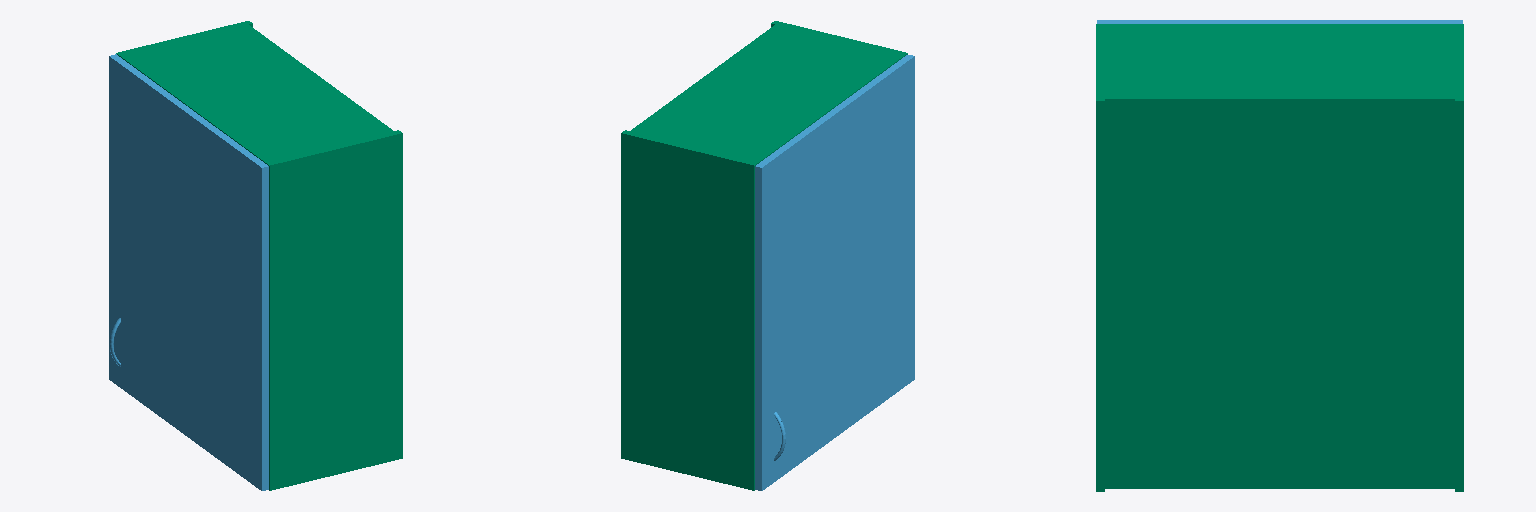
URDF robot description (partnet_8ddd7f1e19ff809abe81a9109a782712):
<?xml version='1.0' encoding='utf-8'?>
<robot name="partnet_8ddd7f1e19ff809abe81a9109a782712">
	<link name="base" />
	<link name="link_0">
		<visual name="cabinet_door_surface-4">
			<origin xyz="-0.6150654759161468 -0.7430800199508666 -0.30996262874794717" />
			<geometry>
				<mesh filename="textured_objs/original-7.obj" />
			</geometry>
		</visual>
		<visual name="handle-5">
			<origin xyz="-0.6150654759161468 -0.7430800199508666 -0.30996262874794717" />
			<geometry>
				<mesh filename="textured_objs/original-9.obj" />
			</geometry>
		</visual>
		<visual name="handle-5">
			<origin xyz="-0.6150654759161468 -0.7430800199508666 -0.30996262874794717" />
			<geometry>
				<mesh filename="textured_objs/original-10.obj" />
			</geometry>
		</visual>
		<collision>
			<origin xyz="-0.6150654759161468 -0.7430800199508666 -0.30996262874794717" />
			<geometry>
				<mesh filename="textured_objs/original-7.obj" />
			</geometry>
		</collision>
		<collision>
			<origin xyz="-0.6150654759161468 -0.7430800199508666 -0.30996262874794717" />
			<geometry>
				<mesh filename="textured_objs/original-9.obj" />
			</geometry>
		</collision>
		<collision>
			<origin xyz="-0.6150654759161468 -0.7430800199508666 -0.30996262874794717" />
			<geometry>
				<mesh filename="textured_objs/original-10.obj" />
			</geometry>
		</collision>
	</link>
	<joint name="joint_0" type="revolute">
		<origin xyz="0.6150654759161468 0.7430800199508666 0.30996262874794717" />
		<axis xyz="0 1 0" />
		<child link="link_0" />
		<parent link="link_1" />
		<limit lower="0.0" upper="2.1991148575128547" />
	</joint>
	<link name="link_1">
		<visual name="shelf-15">
			<origin xyz="0 0 0" />
			<geometry>
				<mesh filename="textured_objs/original-20.obj" />
			</geometry>
		</visual>
		<visual name="shelf-16">
			<origin xyz="0 0 0" />
			<geometry>
				<mesh filename="textured_objs/original-89.obj" />
			</geometry>
		</visual>
		<visual name="vertical_side_panel-6">
			<origin xyz="0 0 0" />
			<geometry>
				<mesh filename="textured_objs/original-2.obj" />
			</geometry>
		</visual>
		<visual name="vertical_side_panel-7">
			<origin xyz="0 0 0" />
			<geometry>
				<mesh filename="textured_objs/original-3.obj" />
			</geometry>
		</visual>
		<visual name="back_panel-8">
			<origin xyz="0 0 0" />
			<geometry>
				<mesh filename="textured_objs/original-12.obj" />
			</geometry>
		</visual>
		<visual name="bottom_panel-9">
			<origin xyz="0 0 0" />
			<geometry>
				<mesh filename="textured_objs/original-1.obj" />
			</geometry>
		</visual>
		<visual name="top_panel-10">
			<origin xyz="0 0 0" />
			<geometry>
				<mesh filename="textured_objs/original-5.obj" />
			</geometry>
		</visual>
		<visual name="other_leaf-14">
			<origin xyz="0 0 0" />
			<geometry>
				<mesh filename="textured_objs/original-27.obj" />
			</geometry>
		</visual>
		<visual name="other_leaf-14">
			<origin xyz="0 0 0" />
			<geometry>
				<mesh filename="textured_objs/original-46.obj" />
			</geometry>
		</visual>
		<visual name="other_leaf-14">
			<origin xyz="0 0 0" />
			<geometry>
				<mesh filename="textured_objs/original-49.obj" />
			</geometry>
		</visual>
		<visual name="other_leaf-14">
			<origin xyz="0 0 0" />
			<geometry>
				<mesh filename="textured_objs/original-29.obj" />
			</geometry>
		</visual>
		<visual name="other_leaf-14">
			<origin xyz="0 0 0" />
			<geometry>
				<mesh filename="textured_objs/original-36.obj" />
			</geometry>
		</visual>
		<visual name="other_leaf-14">
			<origin xyz="0 0 0" />
			<geometry>
				<mesh filename="textured_objs/original-43.obj" />
			</geometry>
		</visual>
		<visual name="other_leaf-14">
			<origin xyz="0 0 0" />
			<geometry>
				<mesh filename="textured_objs/original-37.obj" />
			</geometry>
		</visual>
		<visual name="other_leaf-14">
			<origin xyz="0 0 0" />
			<geometry>
				<mesh filename="textured_objs/original-41.obj" />
			</geometry>
		</visual>
		<visual name="other_leaf-14">
			<origin xyz="0 0 0" />
			<geometry>
				<mesh filename="textured_objs/original-48.obj" />
			</geometry>
		</visual>
		<visual name="other_leaf-14">
			<origin xyz="0 0 0" />
			<geometry>
				<mesh filename="textured_objs/original-47.obj" />
			</geometry>
		</visual>
		<visual name="other_leaf-14">
			<origin xyz="0 0 0" />
			<geometry>
				<mesh filename="textured_objs/original-50.obj" />
			</geometry>
		</visual>
		<visual name="other_leaf-14">
			<origin xyz="0 0 0" />
			<geometry>
				<mesh filename="textured_objs/original-35.obj" />
			</geometry>
		</visual>
		<visual name="other_leaf-14">
			<origin xyz="0 0 0" />
			<geometry>
				<mesh filename="textured_objs/original-33.obj" />
			</geometry>
		</visual>
		<visual name="other_leaf-14">
			<origin xyz="0 0 0" />
			<geometry>
				<mesh filename="textured_objs/original-44.obj" />
			</geometry>
		</visual>
		<visual name="other_leaf-14">
			<origin xyz="0 0 0" />
			<geometry>
				<mesh filename="textured_objs/original-42.obj" />
			</geometry>
		</visual>
		<visual name="other_leaf-14">
			<origin xyz="0 0 0" />
			<geometry>
				<mesh filename="textured_objs/original-38.obj" />
			</geometry>
		</visual>
		<visual name="other_leaf-14">
			<origin xyz="0 0 0" />
			<geometry>
				<mesh filename="textured_objs/original-45.obj" />
			</geometry>
		</visual>
		<visual name="other_leaf-14">
			<origin xyz="0 0 0" />
			<geometry>
				<mesh filename="textured_objs/original-40.obj" />
			</geometry>
		</visual>
		<visual name="other_leaf-14">
			<origin xyz="0 0 0" />
			<geometry>
				<mesh filename="textured_objs/original-51.obj" />
			</geometry>
		</visual>
		<visual name="other_leaf-14">
			<origin xyz="0 0 0" />
			<geometry>
				<mesh filename="textured_objs/original-23.obj" />
			</geometry>
		</visual>
		<visual name="other_leaf-14">
			<origin xyz="0 0 0" />
			<geometry>
				<mesh filename="textured_objs/original-24.obj" />
			</geometry>
		</visual>
		<visual name="other_leaf-14">
			<origin xyz="0 0 0" />
			<geometry>
				<mesh filename="textured_objs/original-34.obj" />
			</geometry>
		</visual>
		<visual name="other_leaf-14">
			<origin xyz="0 0 0" />
			<geometry>
				<mesh filename="textured_objs/original-39.obj" />
			</geometry>
		</visual>
		<visual name="other_leaf-14">
			<origin xyz="0 0 0" />
			<geometry>
				<mesh filename="textured_objs/original-22.obj" />
			</geometry>
		</visual>
		<visual name="other_leaf-14">
			<origin xyz="0 0 0" />
			<geometry>
				<mesh filename="textured_objs/original-25.obj" />
			</geometry>
		</visual>
		<visual name="other_leaf-14">
			<origin xyz="0 0 0" />
			<geometry>
				<mesh filename="textured_objs/original-30.obj" />
			</geometry>
		</visual>
		<visual name="other_leaf-14">
			<origin xyz="0 0 0" />
			<geometry>
				<mesh filename="textured_objs/original-32.obj" />
			</geometry>
		</visual>
		<visual name="other_leaf-14">
			<origin xyz="0 0 0" />
			<geometry>
				<mesh filename="textured_objs/original-28.obj" />
			</geometry>
		</visual>
		<visual name="other_leaf-14">
			<origin xyz="0 0 0" />
			<geometry>
				<mesh filename="textured_objs/original-31.obj" />
			</geometry>
		</visual>
		<visual name="other_leaf-13">
			<origin xyz="0 0 0" />
			<geometry>
				<mesh filename="textured_objs/original-55.obj" />
			</geometry>
		</visual>
		<visual name="other_leaf-13">
			<origin xyz="0 0 0" />
			<geometry>
				<mesh filename="textured_objs/original-68.obj" />
			</geometry>
		</visual>
		<visual name="other_leaf-13">
			<origin xyz="0 0 0" />
			<geometry>
				<mesh filename="textured_objs/original-79.obj" />
			</geometry>
		</visual>
		<visual name="other_leaf-13">
			<origin xyz="0 0 0" />
			<geometry>
				<mesh filename="textured_objs/original-67.obj" />
			</geometry>
		</visual>
		<visual name="other_leaf-13">
			<origin xyz="0 0 0" />
			<geometry>
				<mesh filename="textured_objs/original-66.obj" />
			</geometry>
		</visual>
		<visual name="other_leaf-13">
			<origin xyz="0 0 0" />
			<geometry>
				<mesh filename="textured_objs/original-65.obj" />
			</geometry>
		</visual>
		<visual name="other_leaf-13">
			<origin xyz="0 0 0" />
			<geometry>
				<mesh filename="textured_objs/original-64.obj" />
			</geometry>
		</visual>
		<visual name="other_leaf-13">
			<origin xyz="0 0 0" />
			<geometry>
				<mesh filename="textured_objs/original-63.obj" />
			</geometry>
		</visual>
		<visual name="other_leaf-13">
			<origin xyz="0 0 0" />
			<geometry>
				<mesh filename="textured_objs/original-78.obj" />
			</geometry>
		</visual>
		<visual name="other_leaf-13">
			<origin xyz="0 0 0" />
			<geometry>
				<mesh filename="textured_objs/original-77.obj" />
			</geometry>
		</visual>
		<visual name="other_leaf-13">
			<origin xyz="0 0 0" />
			<geometry>
				<mesh filename="textured_objs/original-76.obj" />
			</geometry>
		</visual>
		<visual name="other_leaf-13">
			<origin xyz="0 0 0" />
			<geometry>
				<mesh filename="textured_objs/original-75.obj" />
			</geometry>
		</visual>
		<visual name="other_leaf-13">
			<origin xyz="0 0 0" />
			<geometry>
				<mesh filename="textured_objs/original-74.obj" />
			</geometry>
		</visual>
		<visual name="other_leaf-13">
			<origin xyz="0 0 0" />
			<geometry>
				<mesh filename="textured_objs/original-62.obj" />
			</geometry>
		</visual>
		<visual name="other_leaf-13">
			<origin xyz="0 0 0" />
			<geometry>
				<mesh filename="textured_objs/original-73.obj" />
			</geometry>
		</visual>
		<visual name="other_leaf-13">
			<origin xyz="0 0 0" />
			<geometry>
				<mesh filename="textured_objs/original-61.obj" />
			</geometry>
		</visual>
		<visual name="other_leaf-13">
			<origin xyz="0 0 0" />
			<geometry>
				<mesh filename="textured_objs/original-60.obj" />
			</geometry>
		</visual>
		<visual name="other_leaf-13">
			<origin xyz="0 0 0" />
			<geometry>
				<mesh filename="textured_objs/original-59.obj" />
			</geometry>
		</visual>
		<visual name="other_leaf-13">
			<origin xyz="0 0 0" />
			<geometry>
				<mesh filename="textured_objs/original-58.obj" />
			</geometry>
		</visual>
		<visual name="other_leaf-13">
			<origin xyz="0 0 0" />
			<geometry>
				<mesh filename="textured_objs/original-72.obj" />
			</geometry>
		</visual>
		<visual name="other_leaf-13">
			<origin xyz="0 0 0" />
			<geometry>
				<mesh filename="textured_objs/original-71.obj" />
			</geometry>
		</visual>
		<visual name="other_leaf-13">
			<origin xyz="0 0 0" />
			<geometry>
				<mesh filename="textured_objs/original-70.obj" />
			</geometry>
		</visual>
		<visual name="other_leaf-13">
			<origin xyz="0 0 0" />
			<geometry>
				<mesh filename="textured_objs/original-69.obj" />
			</geometry>
		</visual>
		<visual name="other_leaf-13">
			<origin xyz="0 0 0" />
			<geometry>
				<mesh filename="textured_objs/original-57.obj" />
			</geometry>
		</visual>
		<visual name="other_leaf-13">
			<origin xyz="0 0 0" />
			<geometry>
				<mesh filename="textured_objs/original-56.obj" />
			</geometry>
		</visual>
		<visual name="other_leaf-13">
			<origin xyz="0 0 0" />
			<geometry>
				<mesh filename="textured_objs/original-81.obj" />
			</geometry>
		</visual>
		<visual name="other_leaf-13">
			<origin xyz="0 0 0" />
			<geometry>
				<mesh filename="textured_objs/original-80.obj" />
			</geometry>
		</visual>
		<visual name="other_leaf-13">
			<origin xyz="0 0 0" />
			<geometry>
				<mesh filename="textured_objs/original-85.obj" />
			</geometry>
		</visual>
		<visual name="frame_horizontal_bar-17">
			<origin xyz="0 0 0" />
			<geometry>
				<mesh filename="textured_objs/original-83.obj" />
			</geometry>
		</visual>
		<visual name="frame_horizontal_bar-17">
			<origin xyz="0 0 0" />
			<geometry>
				<mesh filename="textured_objs/original-84.obj" />
			</geometry>
		</visual>
		<visual name="frame_horizontal_bar-18">
			<origin xyz="0 0 0" />
			<geometry>
				<mesh filename="textured_objs/original-87.obj" />
			</geometry>
		</visual>
		<visual name="frame_horizontal_bar-18">
			<origin xyz="0 0 0" />
			<geometry>
				<mesh filename="textured_objs/original-88.obj" />
			</geometry>
		</visual>
		<visual name="frame_horizontal_bar-19">
			<origin xyz="0 0 0" />
			<geometry>
				<mesh filename="textured_objs/original-19.obj" />
			</geometry>
		</visual>
		<visual name="frame_horizontal_bar-20">
			<origin xyz="0 0 0" />
			<geometry>
				<mesh filename="textured_objs/original-18.obj" />
			</geometry>
		</visual>
		<visual name="frame_horizontal_bar-21">
			<origin xyz="0 0 0" />
			<geometry>
				<mesh filename="textured_objs/original-16.obj" />
			</geometry>
		</visual>
		<visual name="frame_horizontal_bar-22">
			<origin xyz="0 0 0" />
			<geometry>
				<mesh filename="textured_objs/original-17.obj" />
			</geometry>
		</visual>
		<visual name="other_leaf-26">
			<origin xyz="0 0 0" />
			<geometry>
				<mesh filename="textured_objs/original-11.obj" />
			</geometry>
		</visual>
		<visual name="other_leaf-25">
			<origin xyz="0 0 0" />
			<geometry>
				<mesh filename="textured_objs/original-4.obj" />
			</geometry>
		</visual>
		<collision>
			<origin xyz="0 0 0" />
			<geometry>
				<mesh filename="textured_objs/original-20.obj" />
			</geometry>
		</collision>
		<collision>
			<origin xyz="0 0 0" />
			<geometry>
				<mesh filename="textured_objs/original-89.obj" />
			</geometry>
		</collision>
		<collision>
			<origin xyz="0 0 0" />
			<geometry>
				<mesh filename="textured_objs/original-2.obj" />
			</geometry>
		</collision>
		<collision>
			<origin xyz="0 0 0" />
			<geometry>
				<mesh filename="textured_objs/original-3.obj" />
			</geometry>
		</collision>
		<collision>
			<origin xyz="0 0 0" />
			<geometry>
				<mesh filename="textured_objs/original-12.obj" />
			</geometry>
		</collision>
		<collision>
			<origin xyz="0 0 0" />
			<geometry>
				<mesh filename="textured_objs/original-1.obj" />
			</geometry>
		</collision>
		<collision>
			<origin xyz="0 0 0" />
			<geometry>
				<mesh filename="textured_objs/original-5.obj" />
			</geometry>
		</collision>
		<collision>
			<origin xyz="0 0 0" />
			<geometry>
				<mesh filename="textured_objs/original-27.obj" />
			</geometry>
		</collision>
		<collision>
			<origin xyz="0 0 0" />
			<geometry>
				<mesh filename="textured_objs/original-46.obj" />
			</geometry>
		</collision>
		<collision>
			<origin xyz="0 0 0" />
			<geometry>
				<mesh filename="textured_objs/original-49.obj" />
			</geometry>
		</collision>
		<collision>
			<origin xyz="0 0 0" />
			<geometry>
				<mesh filename="textured_objs/original-29.obj" />
			</geometry>
		</collision>
		<collision>
			<origin xyz="0 0 0" />
			<geometry>
				<mesh filename="textured_objs/original-36.obj" />
			</geometry>
		</collision>
		<collision>
			<origin xyz="0 0 0" />
			<geometry>
				<mesh filename="textured_objs/original-43.obj" />
			</geometry>
		</collision>
		<collision>
			<origin xyz="0 0 0" />
			<geometry>
				<mesh filename="textured_objs/original-37.obj" />
			</geometry>
		</collision>
		<collision>
			<origin xyz="0 0 0" />
			<geometry>
				<mesh filename="textured_objs/original-41.obj" />
			</geometry>
		</collision>
		<collision>
			<origin xyz="0 0 0" />
			<geometry>
				<mesh filename="textured_objs/original-48.obj" />
			</geometry>
		</collision>
		<collision>
			<origin xyz="0 0 0" />
			<geometry>
				<mesh filename="textured_objs/original-47.obj" />
			</geometry>
		</collision>
		<collision>
			<origin xyz="0 0 0" />
			<geometry>
				<mesh filename="textured_objs/original-50.obj" />
			</geometry>
		</collision>
		<collision>
			<origin xyz="0 0 0" />
			<geometry>
				<mesh filename="textured_objs/original-35.obj" />
			</geometry>
		</collision>
		<collision>
			<origin xyz="0 0 0" />
			<geometry>
				<mesh filename="textured_objs/original-33.obj" />
			</geometry>
		</collision>
		<collision>
			<origin xyz="0 0 0" />
			<geometry>
				<mesh filename="textured_objs/original-44.obj" />
			</geometry>
		</collision>
		<collision>
			<origin xyz="0 0 0" />
			<geometry>
				<mesh filename="textured_objs/original-42.obj" />
			</geometry>
		</collision>
		<collision>
			<origin xyz="0 0 0" />
			<geometry>
				<mesh filename="textured_objs/original-38.obj" />
			</geometry>
		</collision>
		<collision>
			<origin xyz="0 0 0" />
			<geometry>
				<mesh filename="textured_objs/original-45.obj" />
			</geometry>
		</collision>
		<collision>
			<origin xyz="0 0 0" />
			<geometry>
				<mesh filename="textured_objs/original-40.obj" />
			</geometry>
		</collision>
		<collision>
			<origin xyz="0 0 0" />
			<geometry>
				<mesh filename="textured_objs/original-51.obj" />
			</geometry>
		</collision>
		<collision>
			<origin xyz="0 0 0" />
			<geometry>
				<mesh filename="textured_objs/original-23.obj" />
			</geometry>
		</collision>
		<collision>
			<origin xyz="0 0 0" />
			<geometry>
				<mesh filename="textured_objs/original-24.obj" />
			</geometry>
		</collision>
		<collision>
			<origin xyz="0 0 0" />
			<geometry>
				<mesh filename="textured_objs/original-34.obj" />
			</geometry>
		</collision>
		<collision>
			<origin xyz="0 0 0" />
			<geometry>
				<mesh filename="textured_objs/original-39.obj" />
			</geometry>
		</collision>
		<collision>
			<origin xyz="0 0 0" />
			<geometry>
				<mesh filename="textured_objs/original-22.obj" />
			</geometry>
		</collision>
		<collision>
			<origin xyz="0 0 0" />
			<geometry>
				<mesh filename="textured_objs/original-25.obj" />
			</geometry>
		</collision>
		<collision>
			<origin xyz="0 0 0" />
			<geometry>
				<mesh filename="textured_objs/original-30.obj" />
			</geometry>
		</collision>
		<collision>
			<origin xyz="0 0 0" />
			<geometry>
				<mesh filename="textured_objs/original-32.obj" />
			</geometry>
		</collision>
		<collision>
			<origin xyz="0 0 0" />
			<geometry>
				<mesh filename="textured_objs/original-28.obj" />
			</geometry>
		</collision>
		<collision>
			<origin xyz="0 0 0" />
			<geometry>
				<mesh filename="textured_objs/original-31.obj" />
			</geometry>
		</collision>
		<collision>
			<origin xyz="0 0 0" />
			<geometry>
				<mesh filename="textured_objs/original-55.obj" />
			</geometry>
		</collision>
		<collision>
			<origin xyz="0 0 0" />
			<geometry>
				<mesh filename="textured_objs/original-68.obj" />
			</geometry>
		</collision>
		<collision>
			<origin xyz="0 0 0" />
			<geometry>
				<mesh filename="textured_objs/original-79.obj" />
			</geometry>
		</collision>
		<collision>
			<origin xyz="0 0 0" />
			<geometry>
				<mesh filename="textured_objs/original-67.obj" />
			</geometry>
		</collision>
		<collision>
			<origin xyz="0 0 0" />
			<geometry>
				<mesh filename="textured_objs/original-66.obj" />
			</geometry>
		</collision>
		<collision>
			<origin xyz="0 0 0" />
			<geometry>
				<mesh filename="textured_objs/original-65.obj" />
			</geometry>
		</collision>
		<collision>
			<origin xyz="0 0 0" />
			<geometry>
				<mesh filename="textured_objs/original-64.obj" />
			</geometry>
		</collision>
		<collision>
			<origin xyz="0 0 0" />
			<geometry>
				<mesh filename="textured_objs/original-63.obj" />
			</geometry>
		</collision>
		<collision>
			<origin xyz="0 0 0" />
			<geometry>
				<mesh filename="textured_objs/original-78.obj" />
			</geometry>
		</collision>
		<collision>
			<origin xyz="0 0 0" />
			<geometry>
				<mesh filename="textured_objs/original-77.obj" />
			</geometry>
		</collision>
		<collision>
			<origin xyz="0 0 0" />
			<geometry>
				<mesh filename="textured_objs/original-76.obj" />
			</geometry>
		</collision>
		<collision>
			<origin xyz="0 0 0" />
			<geometry>
				<mesh filename="textured_objs/original-75.obj" />
			</geometry>
		</collision>
		<collision>
			<origin xyz="0 0 0" />
			<geometry>
				<mesh filename="textured_objs/original-74.obj" />
			</geometry>
		</collision>
		<collision>
			<origin xyz="0 0 0" />
			<geometry>
				<mesh filename="textured_objs/original-62.obj" />
			</geometry>
		</collision>
		<collision>
			<origin xyz="0 0 0" />
			<geometry>
				<mesh filename="textured_objs/original-73.obj" />
			</geometry>
		</collision>
		<collision>
			<origin xyz="0 0 0" />
			<geometry>
				<mesh filename="textured_objs/original-61.obj" />
			</geometry>
		</collision>
		<collision>
			<origin xyz="0 0 0" />
			<geometry>
				<mesh filename="textured_objs/original-60.obj" />
			</geometry>
		</collision>
		<collision>
			<origin xyz="0 0 0" />
			<geometry>
				<mesh filename="textured_objs/original-59.obj" />
			</geometry>
		</collision>
		<collision>
			<origin xyz="0 0 0" />
			<geometry>
				<mesh filename="textured_objs/original-58.obj" />
			</geometry>
		</collision>
		<collision>
			<origin xyz="0 0 0" />
			<geometry>
				<mesh filename="textured_objs/original-72.obj" />
			</geometry>
		</collision>
		<collision>
			<origin xyz="0 0 0" />
			<geometry>
				<mesh filename="textured_objs/original-71.obj" />
			</geometry>
		</collision>
		<collision>
			<origin xyz="0 0 0" />
			<geometry>
				<mesh filename="textured_objs/original-70.obj" />
			</geometry>
		</collision>
		<collision>
			<origin xyz="0 0 0" />
			<geometry>
				<mesh filename="textured_objs/original-69.obj" />
			</geometry>
		</collision>
		<collision>
			<origin xyz="0 0 0" />
			<geometry>
				<mesh filename="textured_objs/original-57.obj" />
			</geometry>
		</collision>
		<collision>
			<origin xyz="0 0 0" />
			<geometry>
				<mesh filename="textured_objs/original-56.obj" />
			</geometry>
		</collision>
		<collision>
			<origin xyz="0 0 0" />
			<geometry>
				<mesh filename="textured_objs/original-81.obj" />
			</geometry>
		</collision>
		<collision>
			<origin xyz="0 0 0" />
			<geometry>
				<mesh filename="textured_objs/original-80.obj" />
			</geometry>
		</collision>
		<collision>
			<origin xyz="0 0 0" />
			<geometry>
				<mesh filename="textured_objs/original-85.obj" />
			</geometry>
		</collision>
		<collision>
			<origin xyz="0 0 0" />
			<geometry>
				<mesh filename="textured_objs/original-83.obj" />
			</geometry>
		</collision>
		<collision>
			<origin xyz="0 0 0" />
			<geometry>
				<mesh filename="textured_objs/original-84.obj" />
			</geometry>
		</collision>
		<collision>
			<origin xyz="0 0 0" />
			<geometry>
				<mesh filename="textured_objs/original-87.obj" />
			</geometry>
		</collision>
		<collision>
			<origin xyz="0 0 0" />
			<geometry>
				<mesh filename="textured_objs/original-88.obj" />
			</geometry>
		</collision>
		<collision>
			<origin xyz="0 0 0" />
			<geometry>
				<mesh filename="textured_objs/original-19.obj" />
			</geometry>
		</collision>
		<collision>
			<origin xyz="0 0 0" />
			<geometry>
				<mesh filename="textured_objs/original-18.obj" />
			</geometry>
		</collision>
		<collision>
			<origin xyz="0 0 0" />
			<geometry>
				<mesh filename="textured_objs/original-16.obj" />
			</geometry>
		</collision>
		<collision>
			<origin xyz="0 0 0" />
			<geometry>
				<mesh filename="textured_objs/original-17.obj" />
			</geometry>
		</collision>
		<collision>
			<origin xyz="0 0 0" />
			<geometry>
				<mesh filename="textured_objs/original-11.obj" />
			</geometry>
		</collision>
		<collision>
			<origin xyz="0 0 0" />
			<geometry>
				<mesh filename="textured_objs/original-4.obj" />
			</geometry>
		</collision>
	</link>
	<joint name="joint_1" type="fixed">
		<origin rpy="1.570796326794897 0 -1.570796326794897" xyz="0 0 0" />
		<child link="link_1" />
		<parent link="base" />
	</joint>
</robot>

--- Facts derived from the render (not from the file) ---
3 views of the same robot in one strip: view 1: azimuth 30°, elevation 25°; view 2: azimuth 150°, elevation 25°; view 3: azimuth 270°, elevation 25° (orthographic).
Robot: partnet_8ddd7f1e19ff809abe81a9109a782712 — 3 links, 2 joints (1 revolute, 1 fixed); root link base; default pose: every joint at zero.
Visible links, largest first — view 1: link_1, link_0; view 2: link_1, link_0; view 3: link_1, link_0.
Link boxes in pixels (box(x1,y1,x2,y2)): link_1: box(116, 21, 402, 490); link_0: box(109, 54, 268, 490); link_1: box(621, 21, 907, 490); link_0: box(755, 55, 914, 490); link_1: box(1096, 24, 1463, 491); link_0: box(1097, 20, 1462, 23).
Size in the robot's own frame: 0.707 by 1.24 by 1.45 metres.
Meshes: 77 distinct files referenced, 77 mesh visuals loaded (77 OBJ).